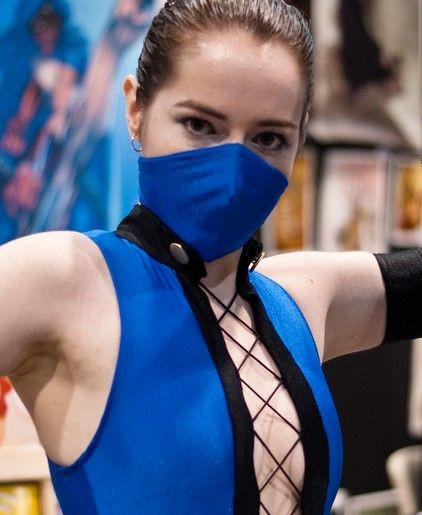OK: (137, 85, 298, 250)
